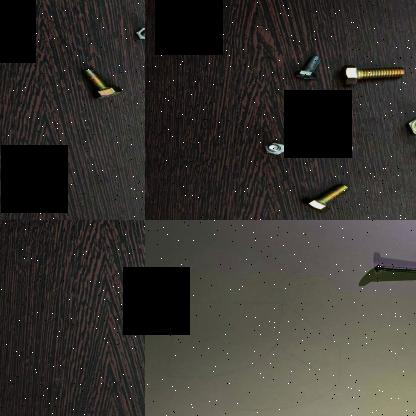Bolts: (340, 62, 410, 88), (73, 66, 122, 102), (299, 184, 353, 216), (288, 53, 324, 84), (372, 261, 416, 277), (260, 140, 290, 158), (400, 113, 416, 139), (129, 26, 145, 42), (408, 145, 416, 160)
